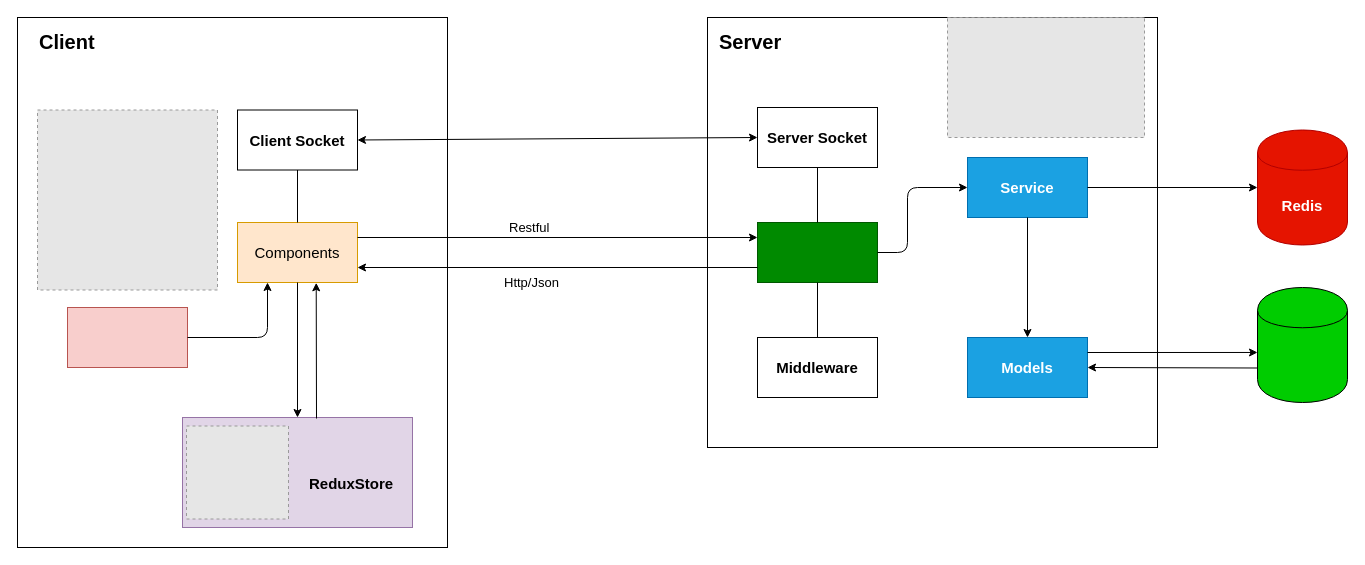
Image size: 1365x565. Some labels were removed from this diagram. Grey dashed boxes stand in for pictures. Here are the shapes that lost their labels. From the top down, the centre of each, then its label:
At pixel 817 252: "Express".
At pixel 127 337: "ReactApp".
At pixel 1302 344: "MongoDB".
